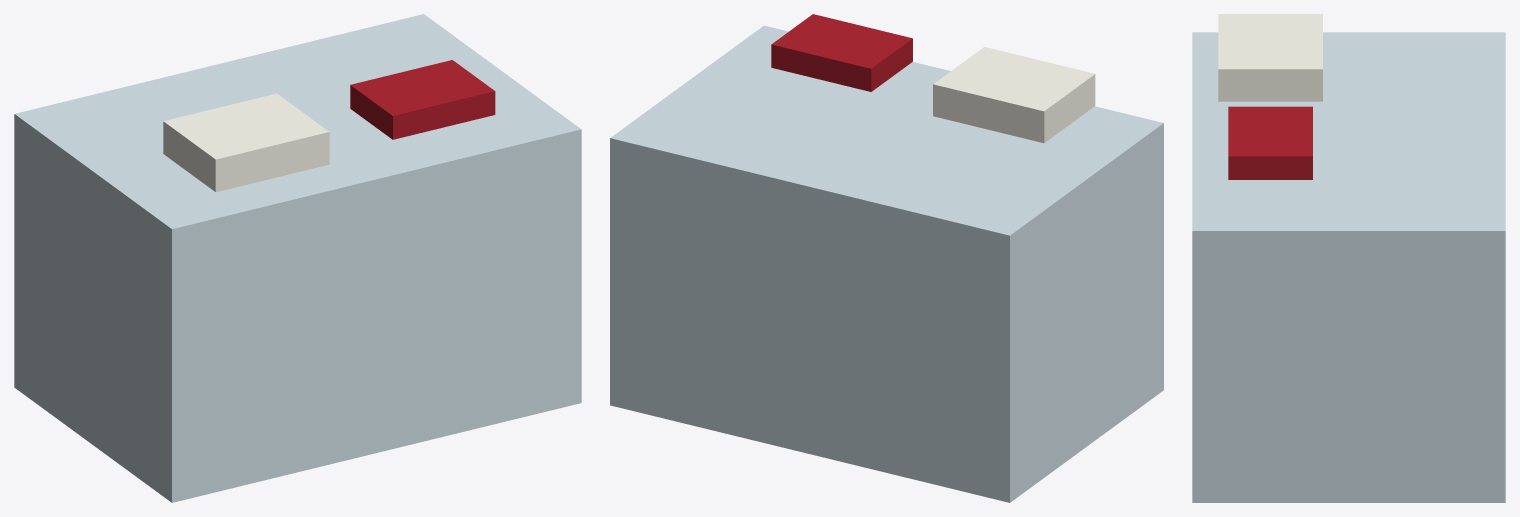
File: sgk_desk.glb
3 views of the same model, side by side, from view 1: azimuth 30°, elevation 25°; view 2: azimuth 150°, elevation 25°; view 3: azimuth 270°, elevation 25° (orthographic). The views are drawn at different scales.
Visible parts, largest first — view 1: desk, paper_stack, folder; view 2: desk, paper_stack, folder; view 3: desk, paper_stack, folder.
Boxes of the visible parts, x1,y1,x2,y2 form: desk: [14, 14, 581, 502]; paper_stack: [163, 93, 329, 192]; folder: [350, 60, 495, 139]; desk: [610, 25, 1163, 502]; paper_stack: [933, 47, 1095, 143]; folder: [771, 14, 912, 91]; desk: [1192, 32, 1505, 502]; paper_stack: [1218, 14, 1322, 101]; folder: [1228, 106, 1312, 179].
Bounding box in the file's own units: 0.72 × 0.5375 × 0.48.
